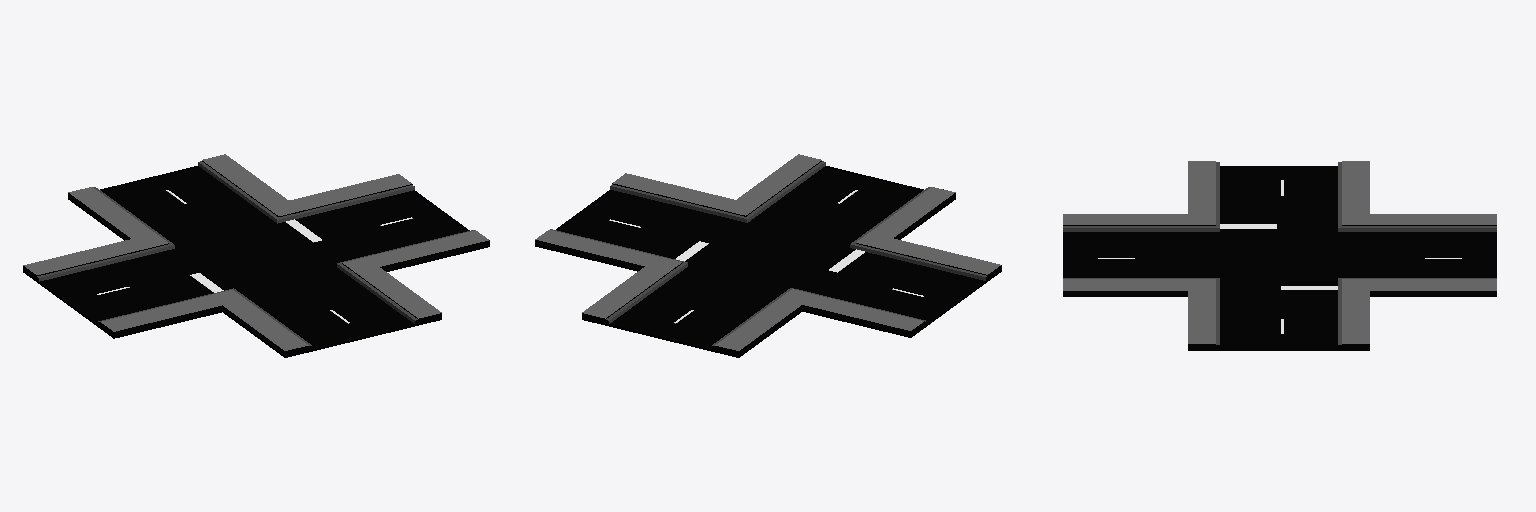
The model's file is road4intersectionStop.obj.
The picture shows the model from 3 angles: view 1: azimuth 30°, elevation 25°; view 2: azimuth 150°, elevation 25°; view 3: azimuth 270°, elevation 25°; orthographic projection.
Parts seen in each view (by area): view 1: road001, trot001, borrder, white001; view 2: road001, trot001, borrder, white001; view 3: road001, trot001, borrder, white001.
Part boxes in pixels (left/top/right/bottom): road001: left=23, top=161, right=489, bottom=357; trot001: left=23, top=154, right=488, bottom=350; borrder: left=37, top=161, right=474, bottom=345; white001: left=97, top=190, right=412, bottom=323; road001: left=535, top=161, right=1001, bottom=357; trot001: left=535, top=154, right=1000, bottom=350; borrder: left=550, top=161, right=986, bottom=345; white001: left=609, top=190, right=923, bottom=323; road001: left=1063, top=166, right=1496, bottom=350; trot001: left=1063, top=161, right=1496, bottom=343; borrder: left=1063, top=162, right=1496, bottom=344; white001: left=1098, top=180, right=1461, bottom=333.
Size of the model in its own units: 239 by 4.22 by 239.